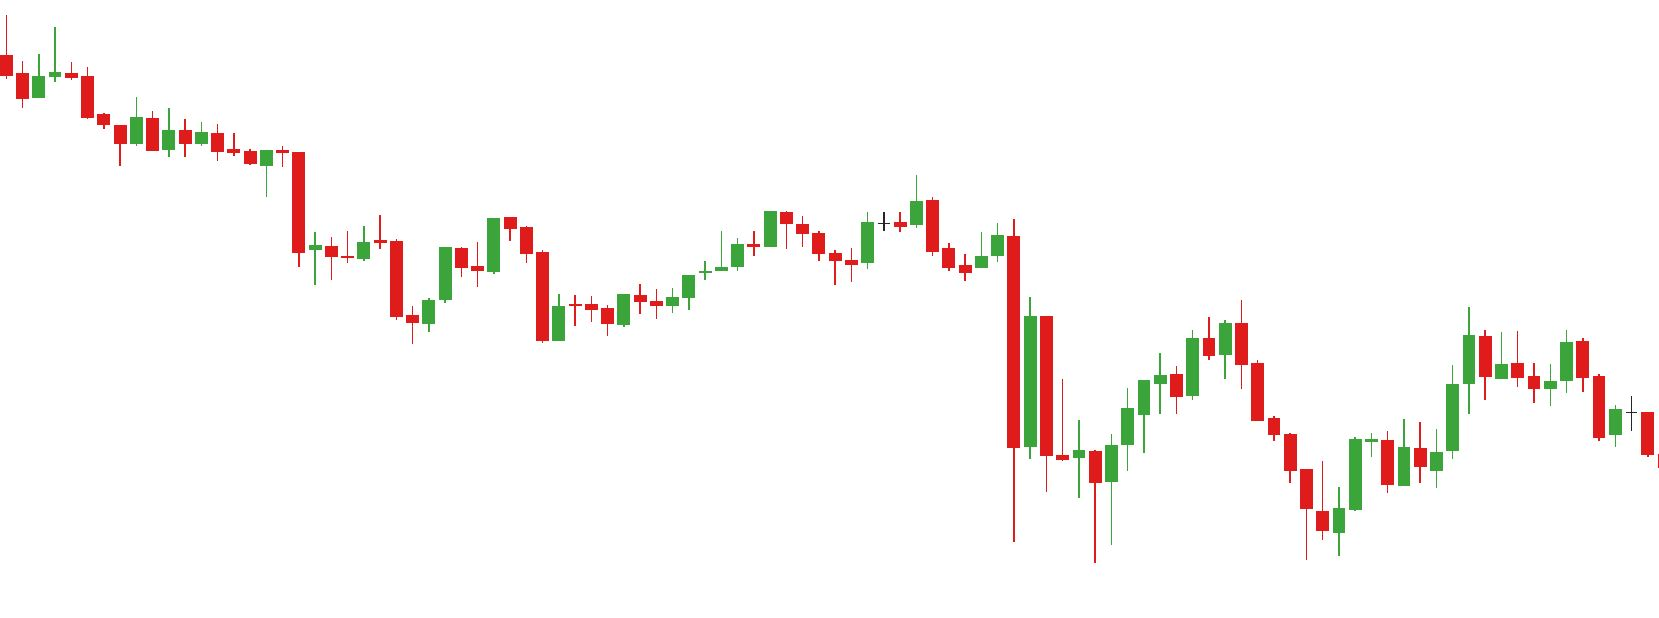buy: (1101, 366, 1347, 561)
